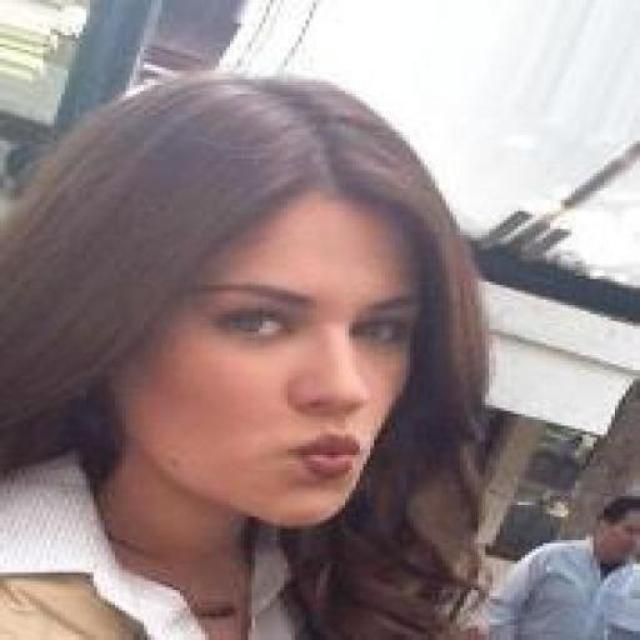bareface: (104, 71, 408, 526)
